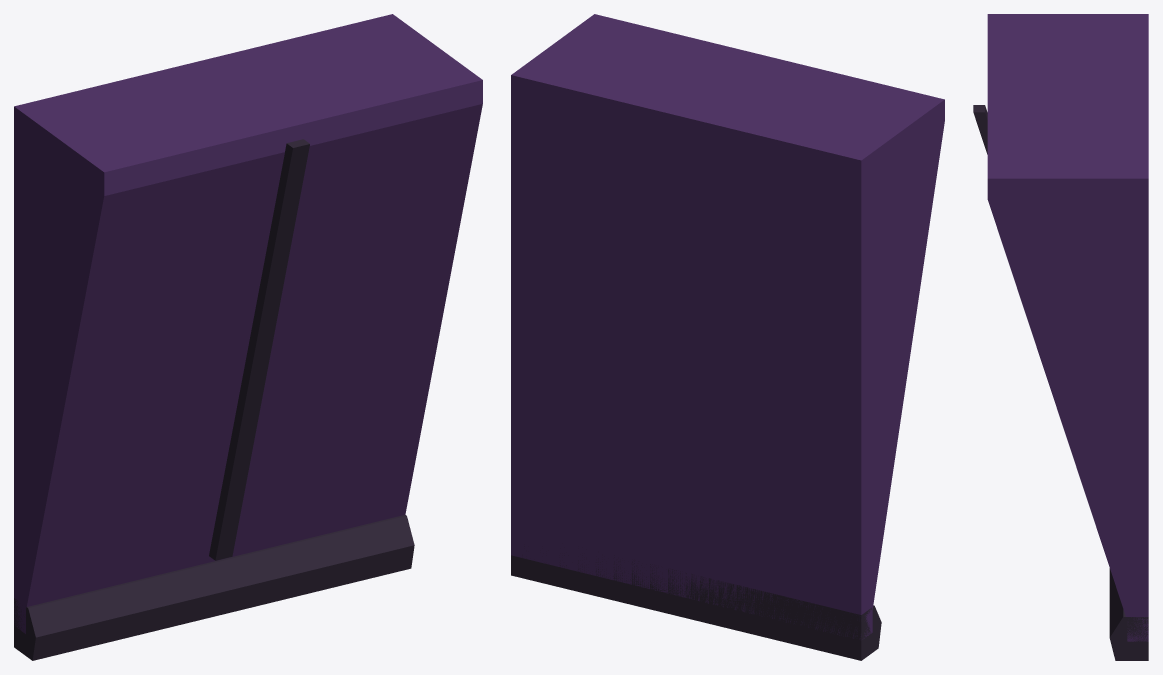
Rendered from SM_SB_Kit_AlienVaultPlate.fbx.
3 views of the same model, side by side, from view 1: azimuth 30°, elevation 25°; view 2: azimuth 150°, elevation 25°; view 3: azimuth 270°, elevation 25° (orthographic). The views are drawn at different scales.
Visible parts, largest first — view 1: SM_SB_Kit_AlienVaultPlate; view 2: SM_SB_Kit_AlienVaultPlate; view 3: SM_SB_Kit_AlienVaultPlate.
Boxes of the visible parts, x1=… form: SM_SB_Kit_AlienVaultPlate: x1=14, y1=14, x2=482, y2=660; SM_SB_Kit_AlienVaultPlate: x1=511, y1=14, x2=944, y2=660; SM_SB_Kit_AlienVaultPlate: x1=973, y1=14, x2=1148, y2=660.
Size of the model in its own units: 400 by 180 by 546.
